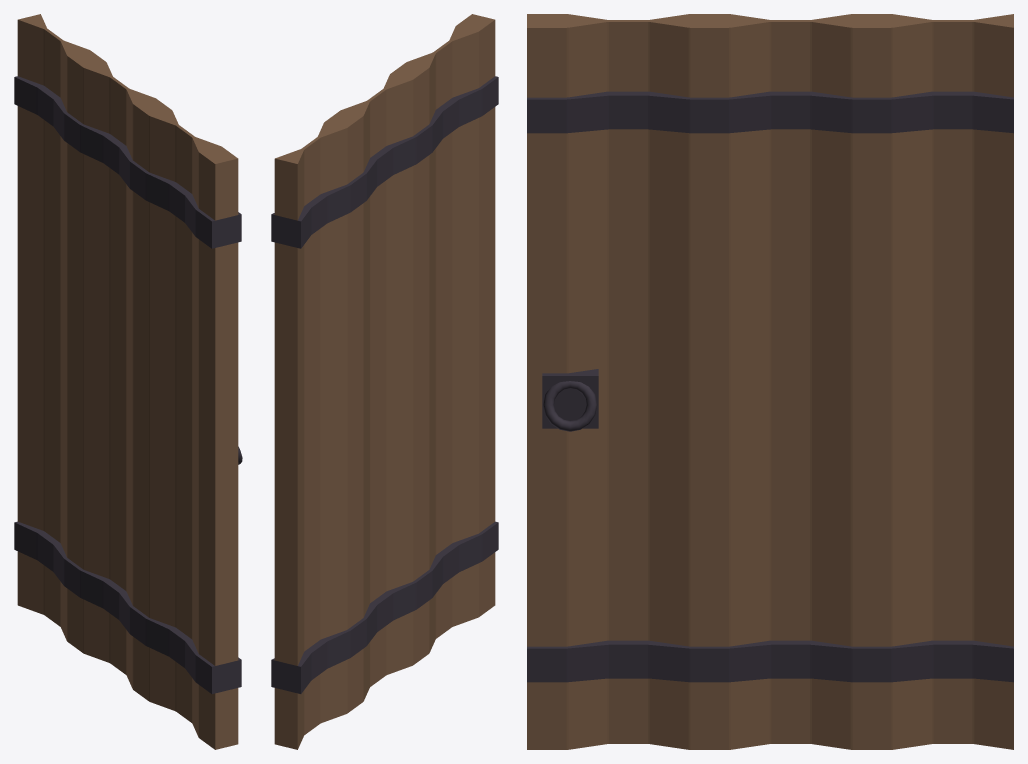
File: present_door.fbx
The picture shows the model from 3 angles, left to right: view 1: azimuth 30°, elevation 25°; view 2: azimuth 150°, elevation 25°; view 3: azimuth 270°, elevation 25°; orthographic projection. The views are drawn at different scales.
Parts seen in each view (by area): view 1: Plane; view 2: Plane; view 3: Plane, Cube.002, Torus.
Part boxes in pixels (<box>): Plane: <box>14,14,241,749</box>; Plane: <box>271,14,498,749</box>; Plane: <box>527,14,1013,749</box>; Cube.002: <box>542,369,598,428</box>; Torus: <box>543,381,597,431</box>.
Bounding box in the file's own units: 36.36 × 478 × 292.
